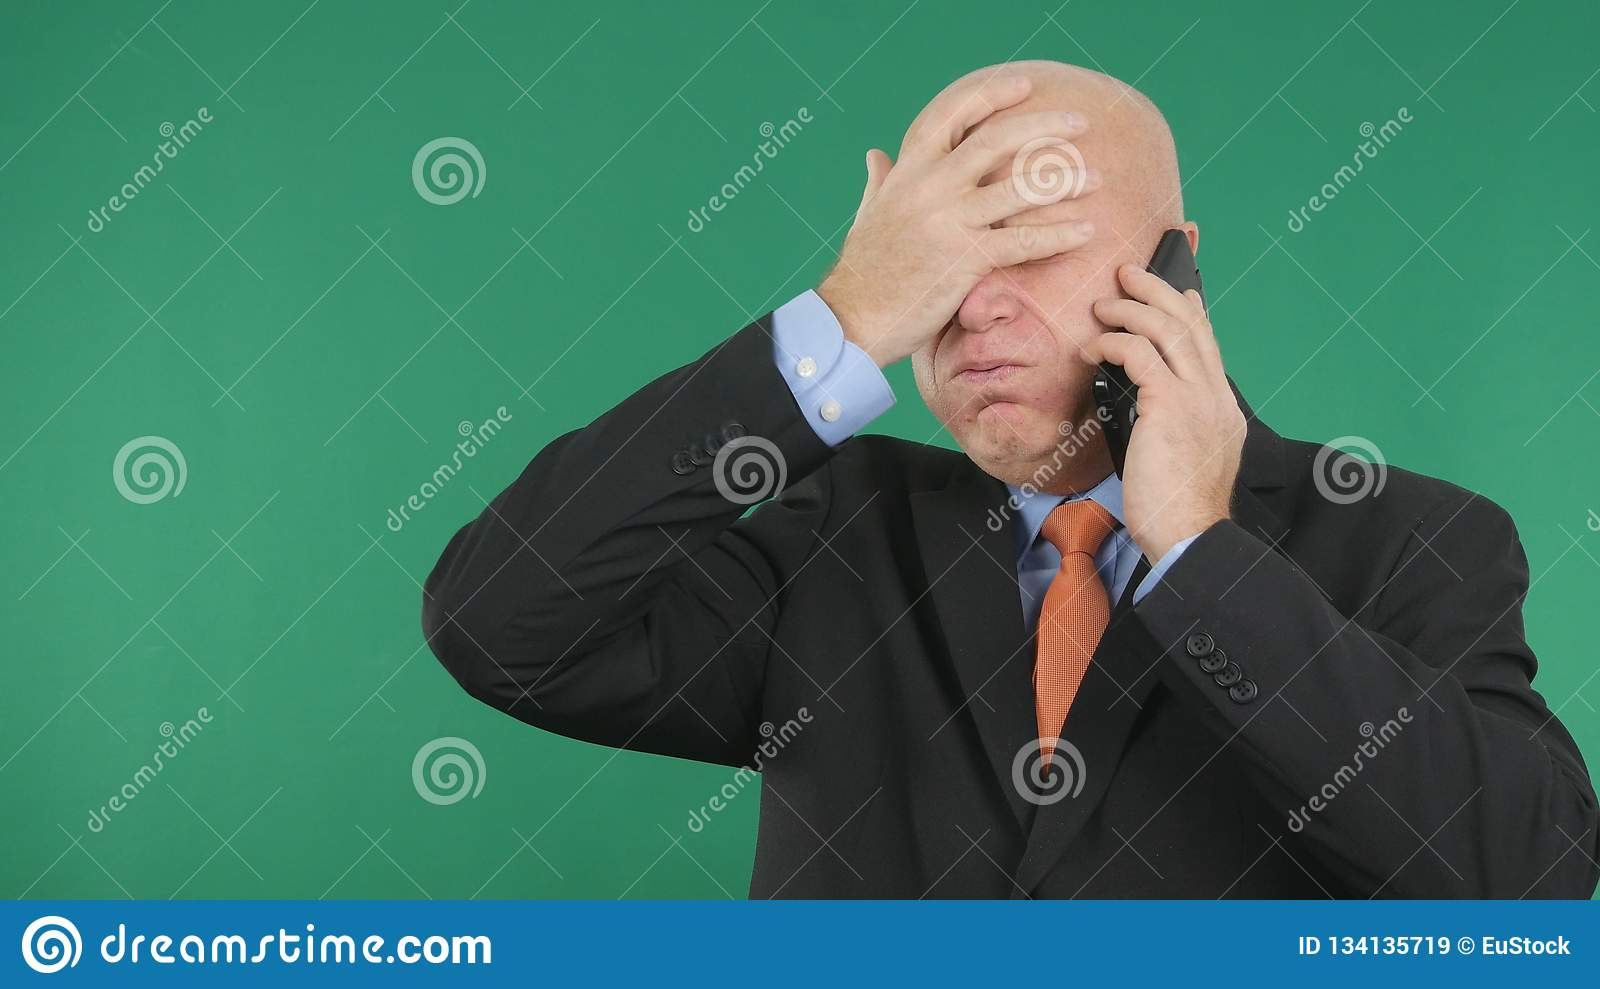phone: (1094, 231, 1203, 488)
talk: (909, 174, 1249, 563)
